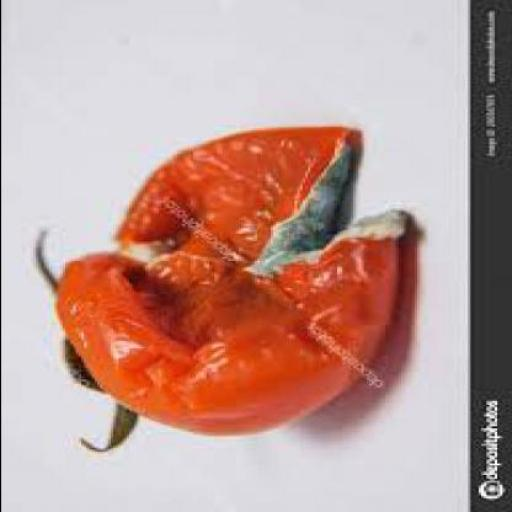biodegradable: (30, 128, 411, 454)
